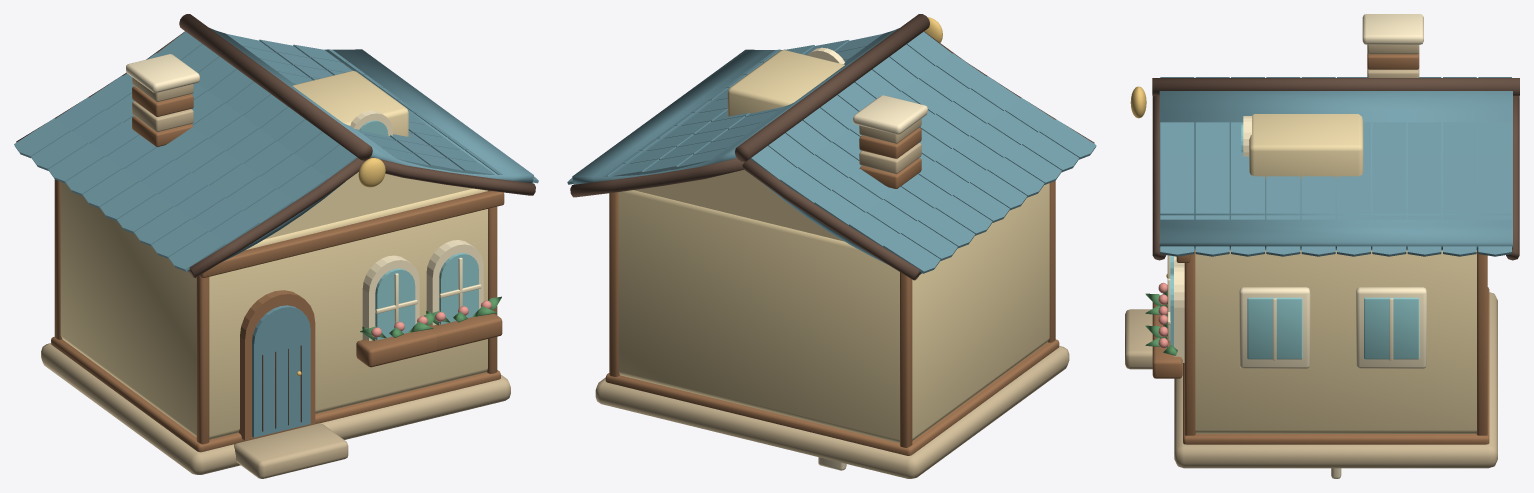
The model's file is mill.glb.
3 views of the same model, side by side, from view 1: azimuth 30°, elevation 25°; view 2: azimuth 150°, elevation 25°; view 3: azimuth 270°, elevation 25° (orthographic). The views are drawn at different scales.
Parts seen in each view (by area): view 1: mill_crafted_mesh.001; view 2: mill_crafted_mesh.001; view 3: mill_crafted_mesh.001.
Part boxes in pixels (x1,y1,x2,y2): mill_crafted_mesh.001: [14, 14, 538, 478]; mill_crafted_mesh.001: [567, 14, 1096, 478]; mill_crafted_mesh.001: [1125, 14, 1519, 468].
Bounding box in the file's own units: 5 × 5.27 × 4.64.
